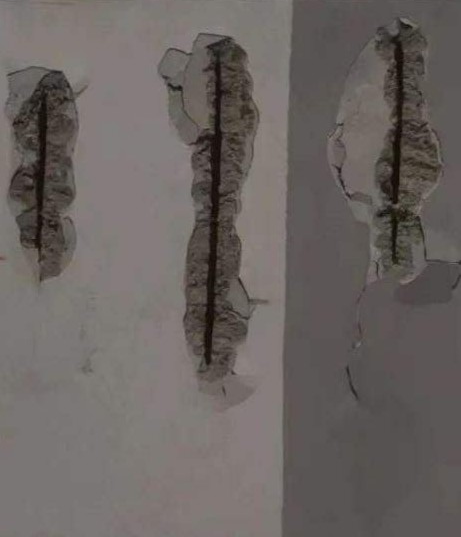Crack: (344, 284, 369, 401)
Exposed reinforcement: (203, 47, 222, 366), (390, 44, 404, 264), (34, 90, 48, 248)
Spalling: (156, 32, 254, 381), (327, 15, 445, 286), (4, 65, 79, 284)
